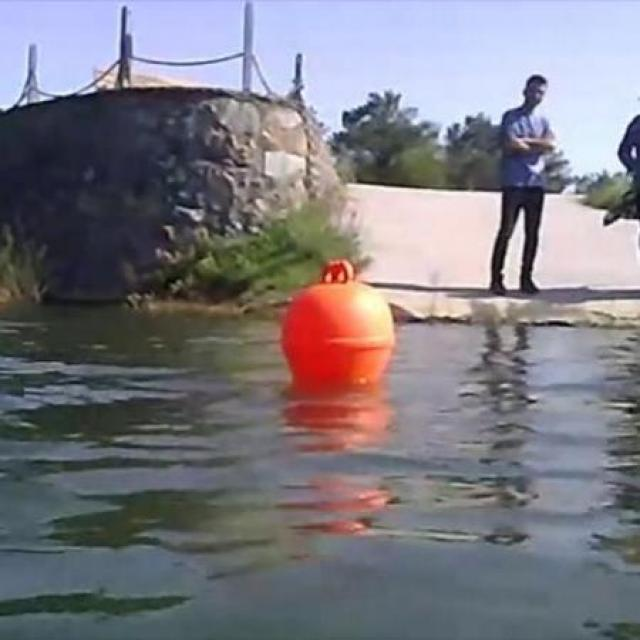buoy: (284, 258, 396, 388)
